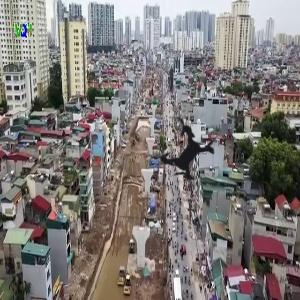drone: (128, 96, 243, 211)
